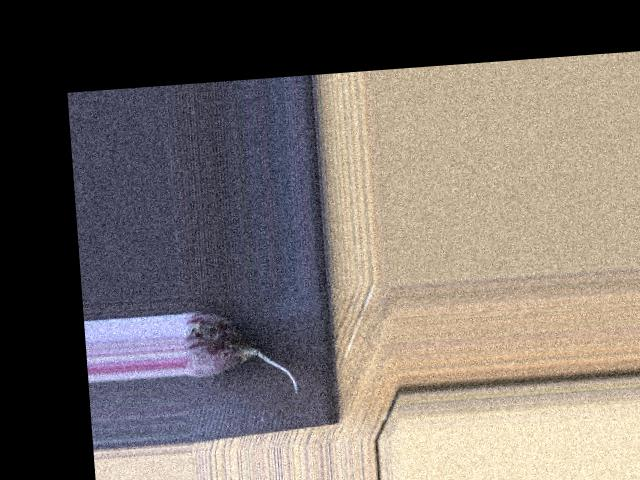beet: (181, 304, 298, 400)
